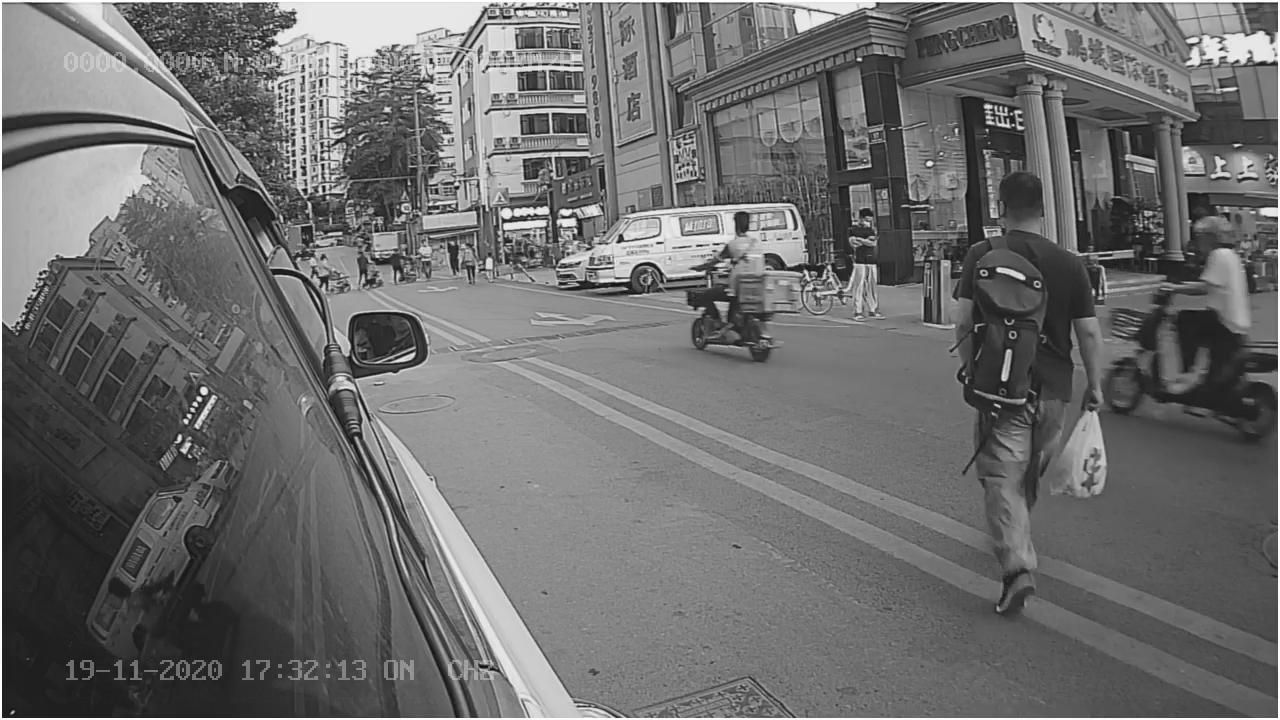person: (947, 163, 1099, 594)
